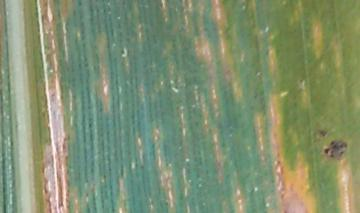tarspot: (321, 140, 348, 162), (314, 128, 334, 138)
